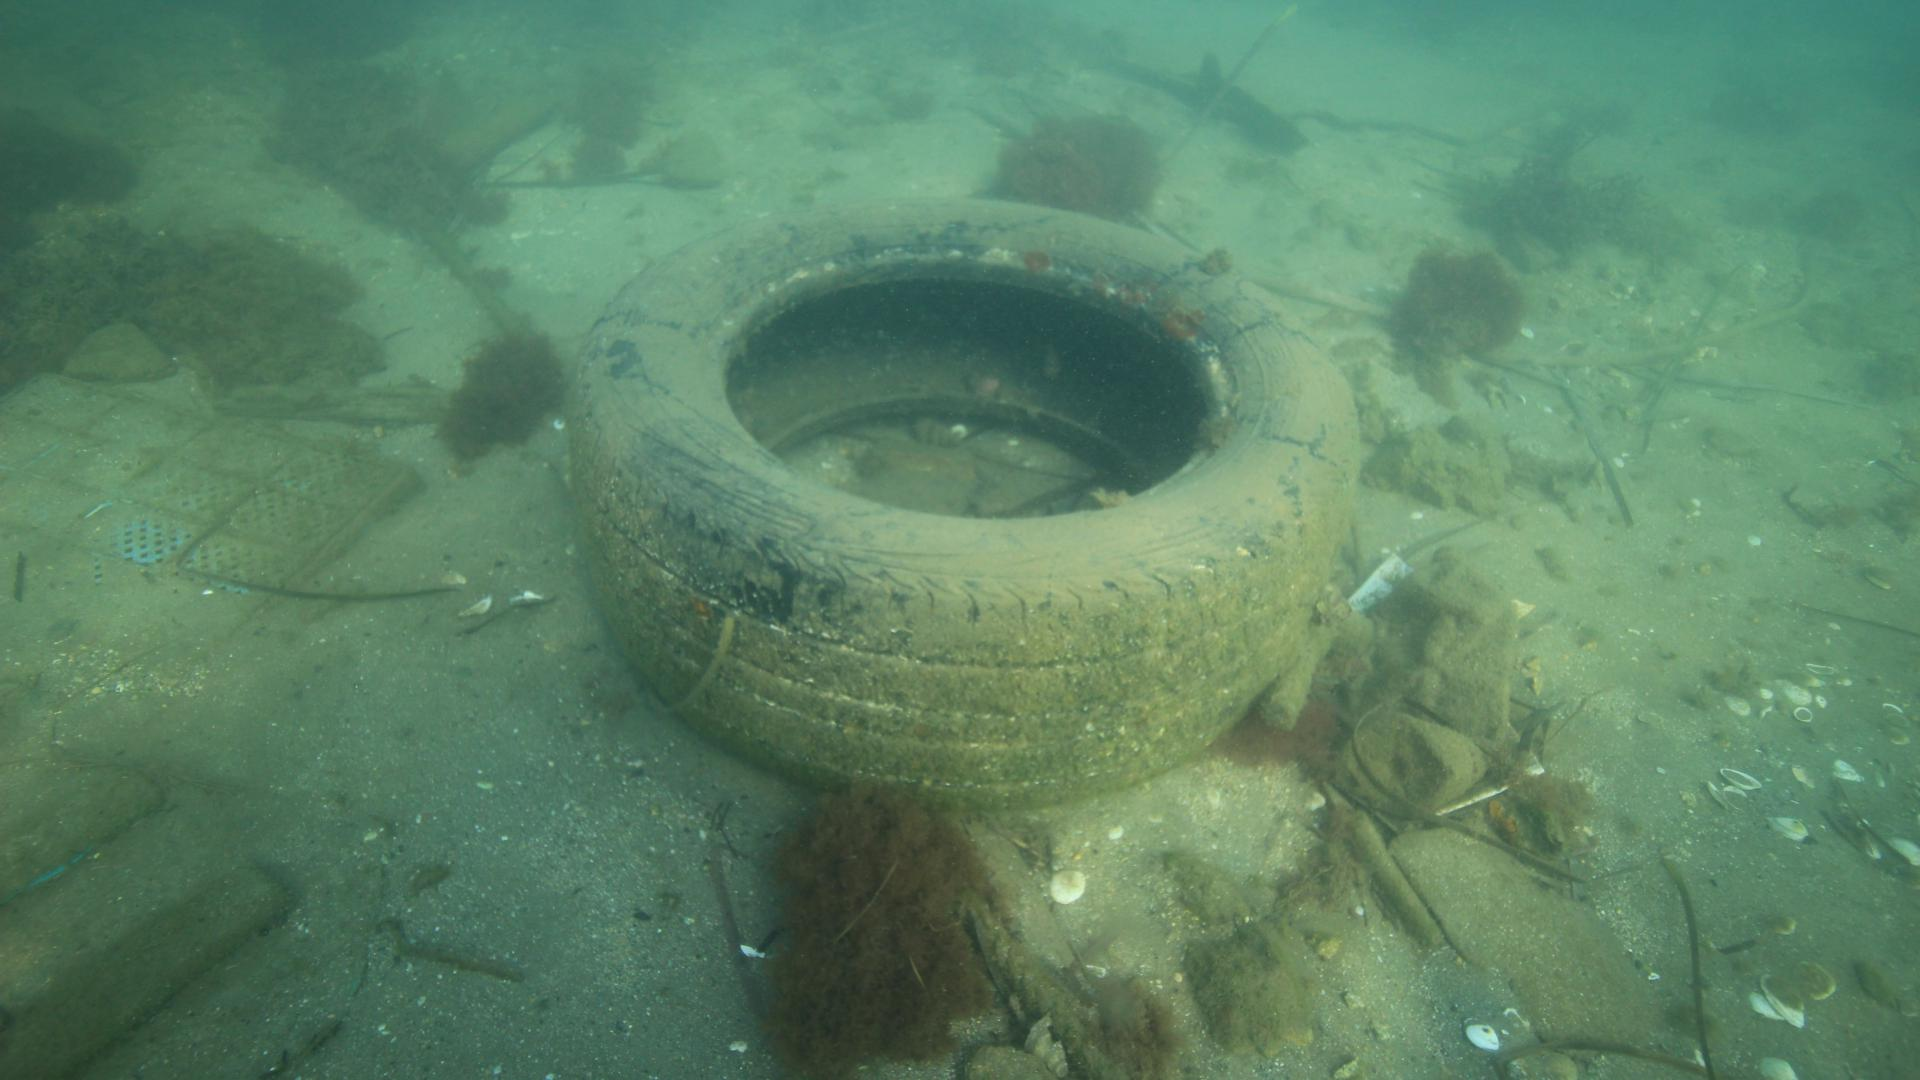rope: (975, 905, 1104, 1071), (419, 222, 530, 338)
tire: (567, 194, 1364, 810)
